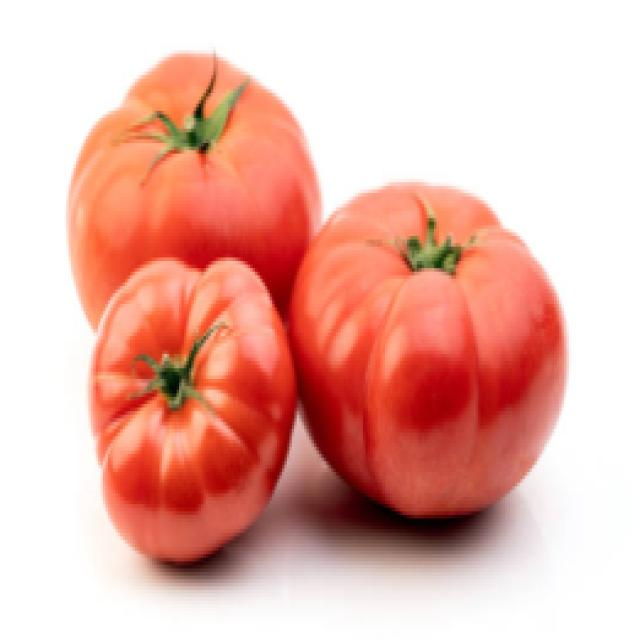Tomato: (286, 171, 561, 521), (66, 247, 296, 556)
